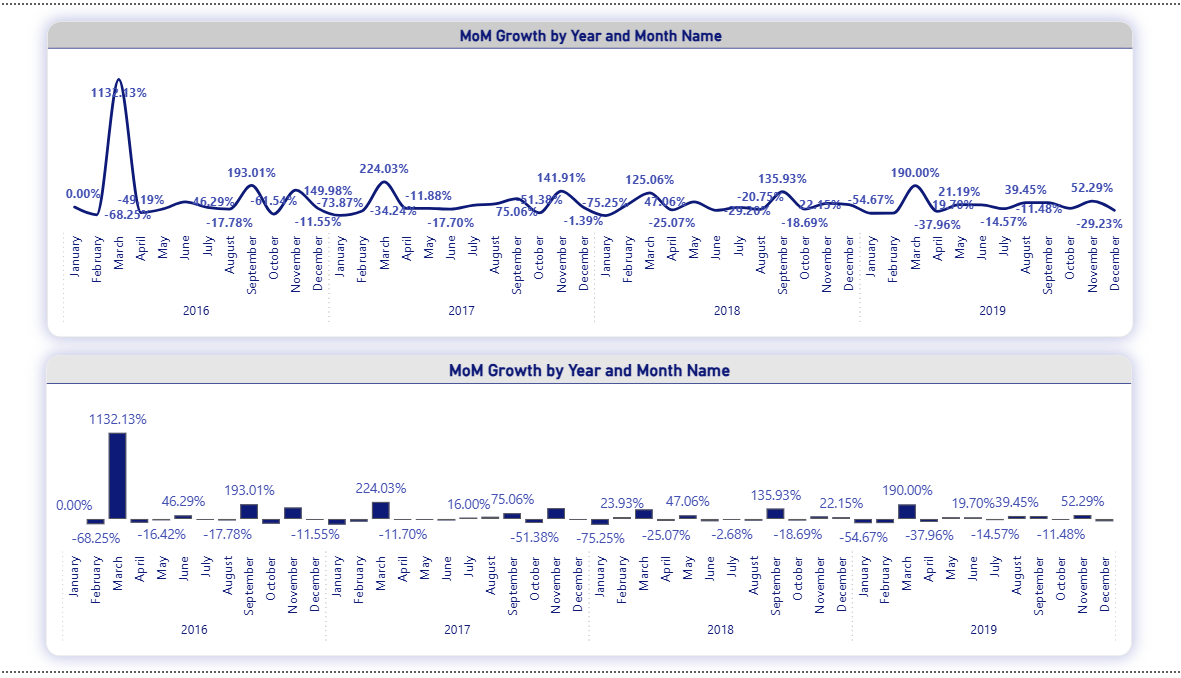

Layout of this report page (visuals, bound fields, positions):
{"tool":"powerbi","page":{"name":"MOM Growth","canvas":[1280,720],"ordinal":6},"visuals":[{"type":"lineChart","fields":{"Category":["Calendar.Year","Calendar.Month Name"],"Y":["Orders.MoM Growth"]},"box":[54.1,17.6,1174.3,341.9],"z":0},{"type":"clusteredColumnChart","fields":{"Category":["Calendar.Year","Calendar.Month Name"],"Y":["Orders.MoM Growth"]},"box":[52.7,378.4,1174.3,325.7],"z":1000}]}

Visuals, with their boxes in screenshot pixels (x1, y1, x2, y2), scaled from the page's 1280x720 canvas onto the 1181x678 screenshot:
lineChart - Calendar.Year x Calendar.Month Name: bbox(50, 17, 1133, 339)
clusteredColumnChart - Calendar.Year x Calendar.Month Name: bbox(49, 356, 1132, 663)
